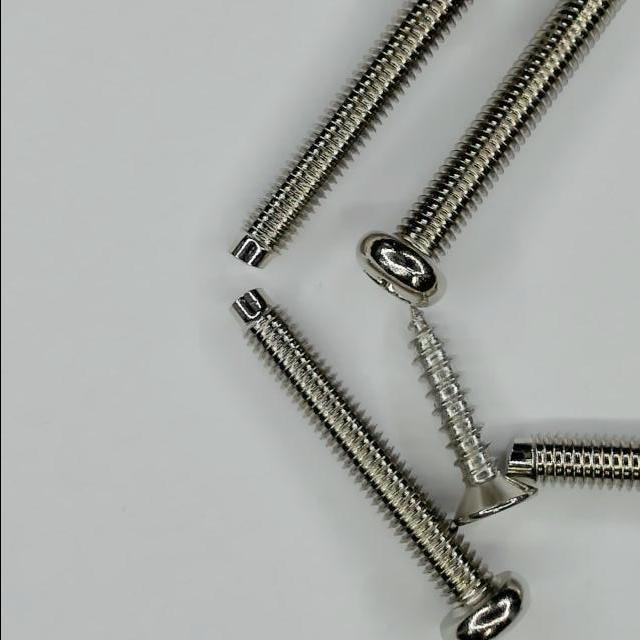Screw: (233, 290, 525, 640), (359, 0, 622, 306), (234, 0, 470, 266), (411, 306, 538, 526), (509, 444, 640, 480)
